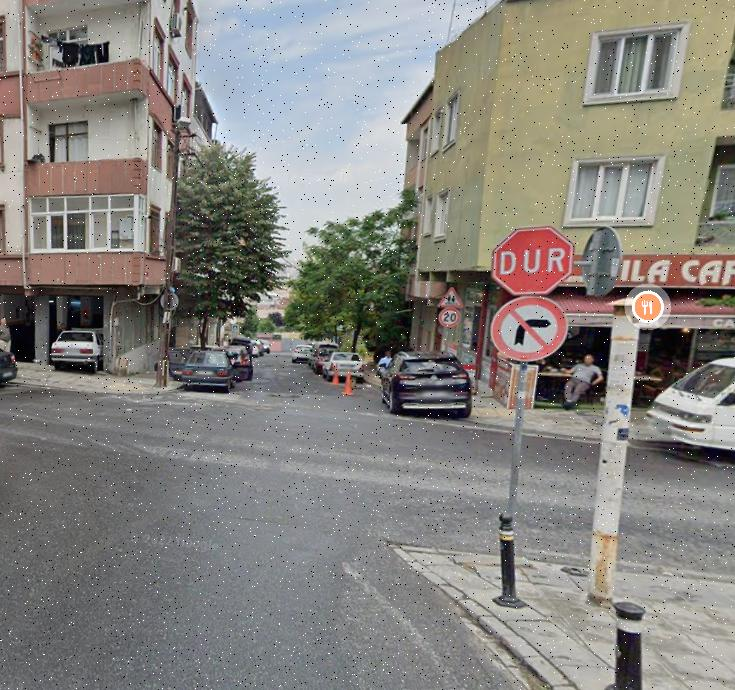rightturnsareforbidden: (491, 298, 570, 358)
stop: (494, 229, 576, 293)
